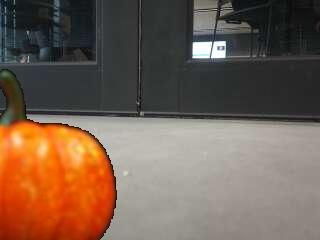Pumpkin: (0, 77, 120, 240)
